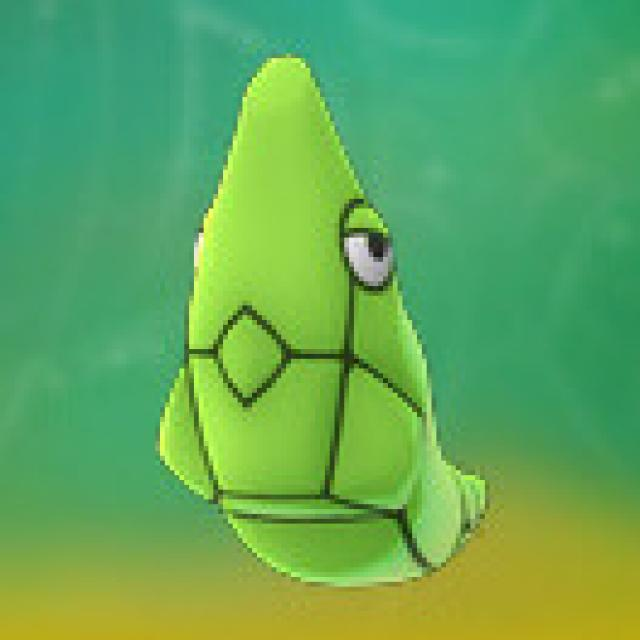Metapod: (158, 57, 467, 584)
